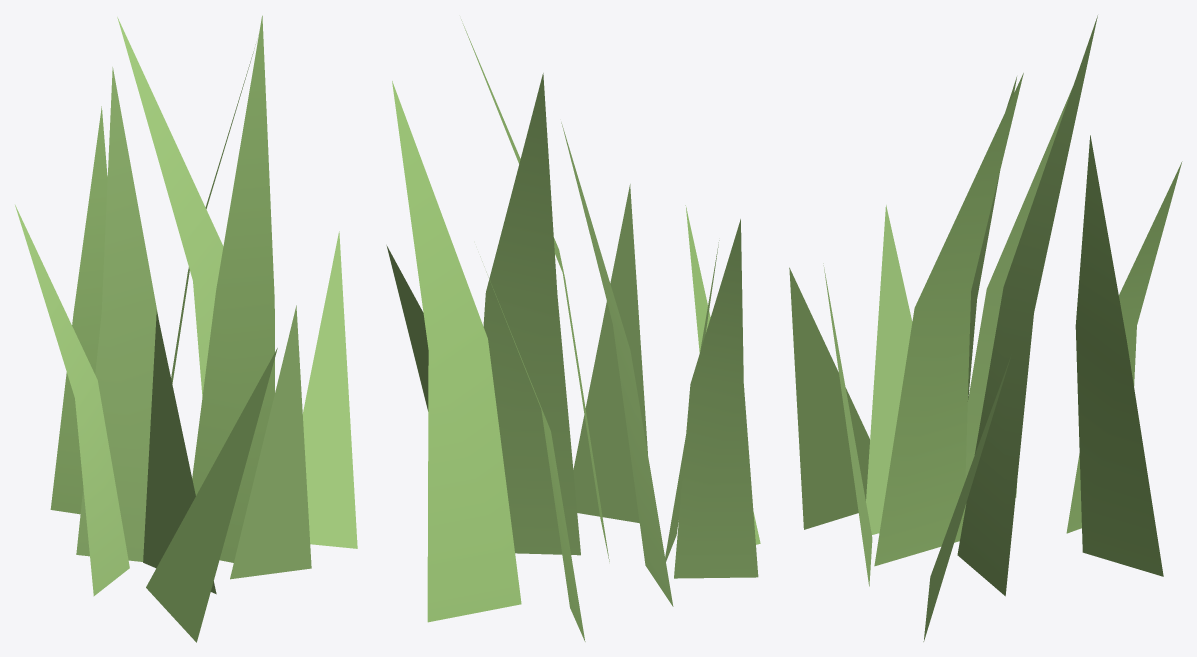
File: Grass_a_OneS_04.fbx
3 renders of one model, left to right at view 1: azimuth 30°, elevation 25°; view 2: azimuth 150°, elevation 25°; view 3: azimuth 270°, elevation 25°, orthographic. The views are drawn at different scales.
Parts seen in each view (by area): view 1: Grass_a_OneS_04; view 2: Grass_a_OneS_04; view 3: Grass_a_OneS_04.
Part boxes in pixels (left/top/right/bottom): Grass_a_OneS_04: left=15, top=15, right=357, bottom=642; Grass_a_OneS_04: left=386, top=19, right=760, bottom=641; Grass_a_OneS_04: left=789, top=15, right=1182, bottom=641.
Size of the model in its own units: 42.07 by 63.87 by 41.67.
